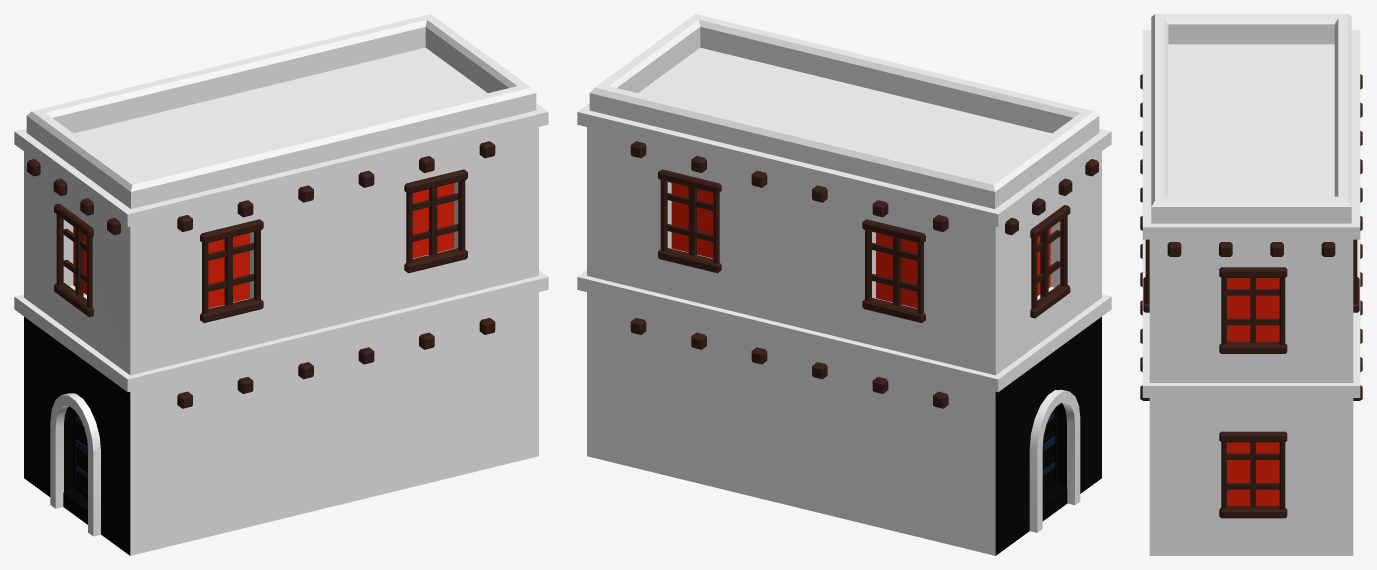
Rendered from civilian_house_34_f.FBX.
The picture shows the model from 3 angles, left to right: view 1: azimuth 30°, elevation 25°; view 2: azimuth 150°, elevation 25°; view 3: azimuth 270°, elevation 25°; orthographic projection. The views are drawn at different scales.
Parts seen in each view (by area): view 1: civilian_house_34_f; view 2: civilian_house_34_f; view 3: civilian_house_34_f.
Boxes of the visible parts, bbox=[...] form: civilian_house_34_f: bbox=[14, 14, 548, 555]; civilian_house_34_f: bbox=[577, 14, 1111, 555]; civilian_house_34_f: bbox=[1140, 14, 1362, 555].
Bounding box in the file's own units: 1038 × 860 × 491.
